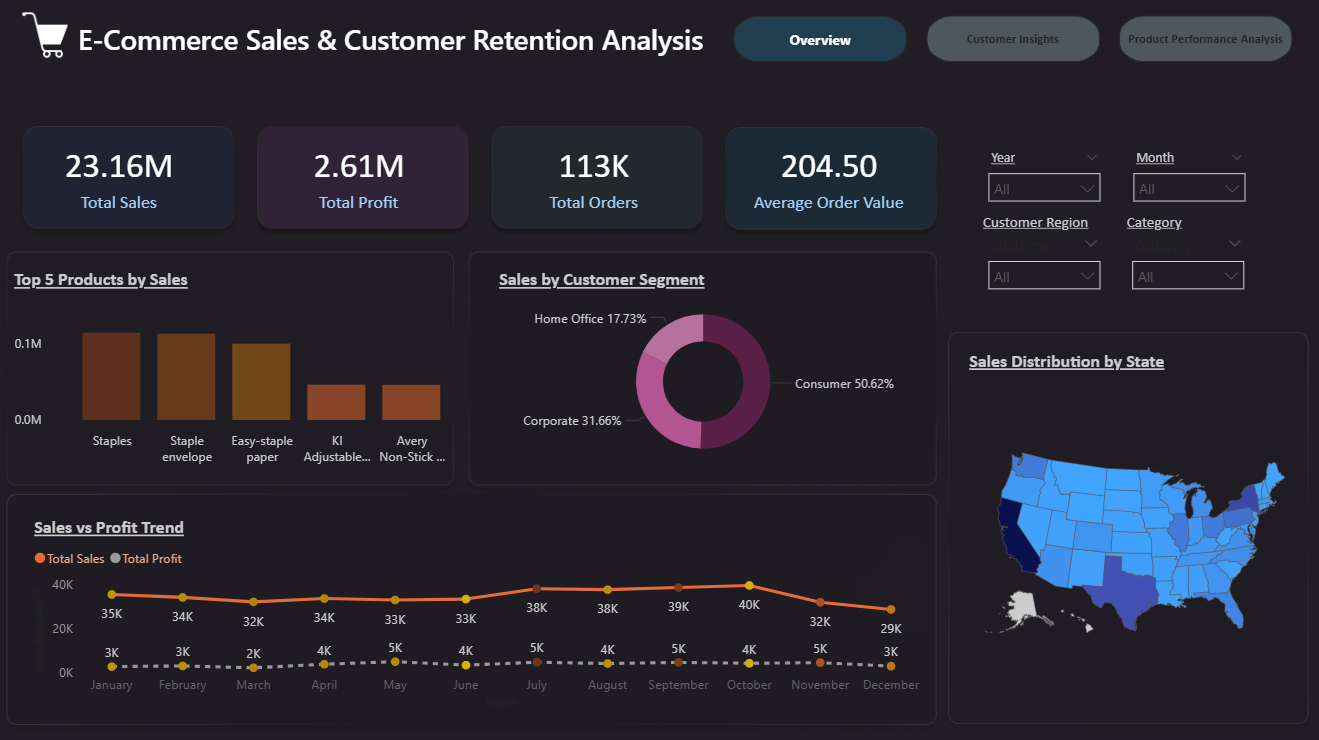

Layout of this report page (visuals, bound fields, positions):
{"tool":"powerbi","page":{"name":"Overview","canvas":[1280,720],"ordinal":0},"visuals":[{"type":"card","fields":{"Values":["calculation_tbl.Total Sales"]},"box":[47.1,131.5,147.2,79.6],"z":0},{"type":"card","fields":{"Values":["calculation_tbl.Total Profit"]},"box":[255.8,112.2,193,118.2],"z":1000},{"type":"card","fields":{"Values":["calculation_tbl.Total Orders"]},"box":[482.6,112.2,193,118.2],"z":2000},{"type":"card","fields":{"Values":["calculation_tbl.Average Order Value"]},"box":[709.4,112.2,193,118.2],"z":3000},{"type":"clusteredColumnChart","title":"Top 5 Products by Sales","fields":{"Category":["ecommerce_data.product_name"],"Y":["calculation_tbl.Total Sales"]},"box":[14.5,260.6,452.4,197.9],"z":4000},{"type":"donutChart","title":"Sales by Customer Segment","fields":{"Y":["calculation_tbl.Total Sales"],"Category":["ecommerce_data.customer_segment"]},"box":[482.6,260.6,404.2,197.9],"z":5000},{"type":"lineChart","title":"Sales vs  Profit Trend","fields":{"Y":["calculation_tbl.Total Sales","calculation_tbl.Total Profit"],"Category":["Date_tbl.Date.Variation.Date Hierarchy.Month"]},"box":[33.2,499.2,868.5,191.9],"z":6000},{"type":"shapeMap","title":"Sales Distribution by State","fields":{"Value":["calculation_tbl.Total Sales"],"Category":["us_state_long_lat_codes.name"]},"box":[936.2,339,330.6,352.3],"z":7000},{"type":"slicer","fields":{"Values":["Date_tbl.Date.Variation.Date Hierarchy.Month"]},"box":[1089.3,141.4,128.4,66.4],"z":8000},{"type":"slicer","title":"Customer Region","fields":{"Values":["ecommerce_data.customer_region"]},"box":[949.3,207.8,128.4,105.3],"z":9000},{"type":"slicer","title":"Category","fields":{"Values":["ecommerce_data.category_name"]},"box":[1087.8,207.8,128.4,85.1],"z":10000},{"type":"slicer","fields":{"Values":["Date_tbl.Date.Variation.Date Hierarchy.Year"]},"box":[949.3,141.4,128.4,66.4],"z":11000},{"type":"pageNavigator","box":[709.4,16.9,548.9,45.8],"z":12000},{"type":"textbox","box":[76,16.9,633.4,114.6],"z":13000},{"type":"image","box":[14.5,7.2,71.2,55.5],"z":13001}]}

Visuals, with their boxes in screenshot pixels (x1, y1, x2, y2), scaled from the page's 1280x720 canvas onto the 1319x740 screenshot:
card - calculation_tbl.Total Sales: (left=49, top=135, right=200, bottom=217)
card - calculation_tbl.Total Profit: (left=264, top=115, right=462, bottom=237)
card - calculation_tbl.Total Orders: (left=497, top=115, right=696, bottom=237)
card - calculation_tbl.Average Order Value: (left=731, top=115, right=930, bottom=237)
"Top 5 Products by Sales" clusteredColumnChart: (left=15, top=268, right=481, bottom=471)
"Sales by Customer Segment" donutChart: (left=497, top=268, right=914, bottom=471)
"Sales vs  Profit Trend" lineChart: (left=34, top=513, right=929, bottom=710)
"Sales Distribution by State" shapeMap: (left=965, top=348, right=1305, bottom=711)
slicer - Date_tbl.Date.Variation.Date Hierarchy.Month: (left=1122, top=145, right=1255, bottom=214)
"Customer Region" slicer: (left=978, top=214, right=1111, bottom=322)
"Category" slicer: (left=1121, top=214, right=1253, bottom=301)
slicer - Date_tbl.Date.Variation.Date Hierarchy.Year: (left=978, top=145, right=1111, bottom=214)
pageNavigator: (left=731, top=17, right=1297, bottom=64)
textbox: (left=78, top=17, right=731, bottom=135)
image: (left=15, top=7, right=88, bottom=64)
